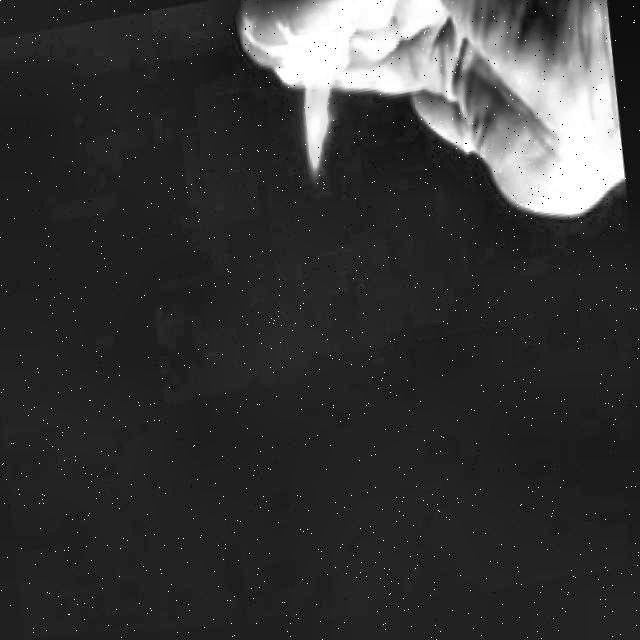Fire: (293, 56, 350, 192)
